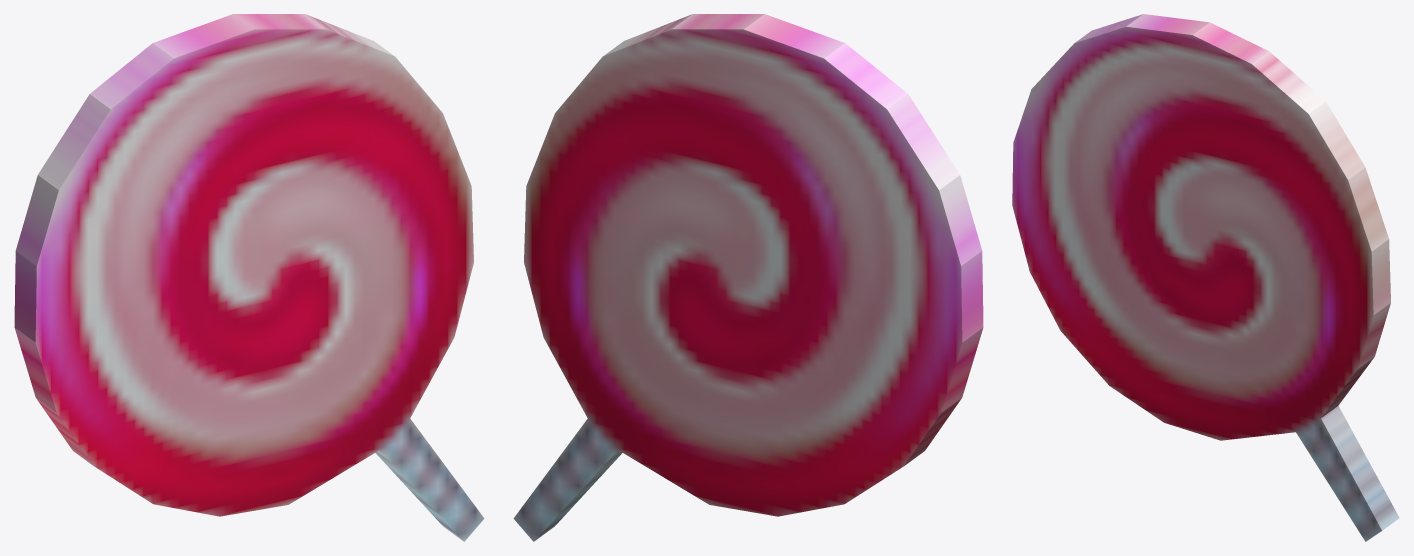
File: lolipop.glb
The picture shows the model from 3 angles, left to right: view 1: azimuth 30°, elevation 25°; view 2: azimuth 150°, elevation 25°; view 3: azimuth 330°, elevation 25°; orthographic projection. The views are drawn at different scales.
Parts seen in each view (by area): view 1: Lolipop; view 2: Lolipop; view 3: Lolipop.
Part boxes in pixels (<box>): Lolipop: <box>14,14,484,541</box>; Lolipop: <box>513,14,983,541</box>; Lolipop: <box>1012,14,1399,541</box>.
Bounding box in the file's own units: 0.3807 × 0.4569 × 0.0311.
Materials: 1 (1 with a texture image).
